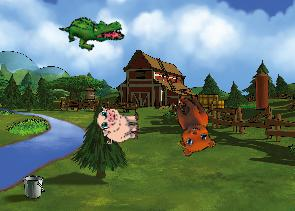bear: (158, 91, 223, 161)
crocodile: (58, 4, 126, 59)
pig: (97, 105, 140, 144)
